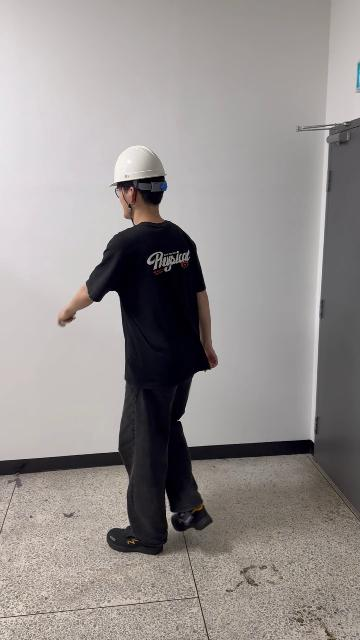helmet_worn: (108, 145, 167, 186)
shoe_worn: (107, 527, 163, 554), (171, 504, 212, 532)
vest_not_worn: (105, 232, 206, 406)
